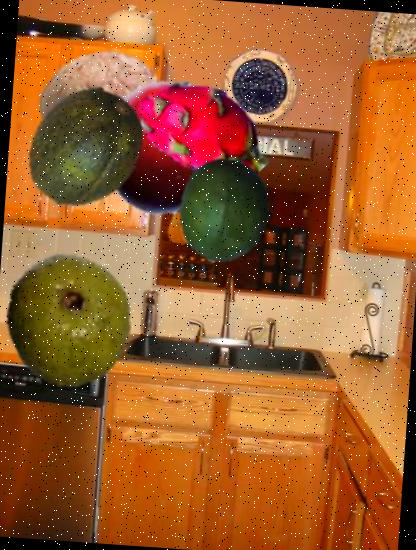Guava: (0, 248, 142, 394)
Mango: (169, 154, 282, 268)
Melon: (21, 83, 154, 216)
Pitahaya: (130, 60, 274, 204)
Tamarillo: (86, 74, 244, 232)
Walnut: (31, 43, 180, 191)
